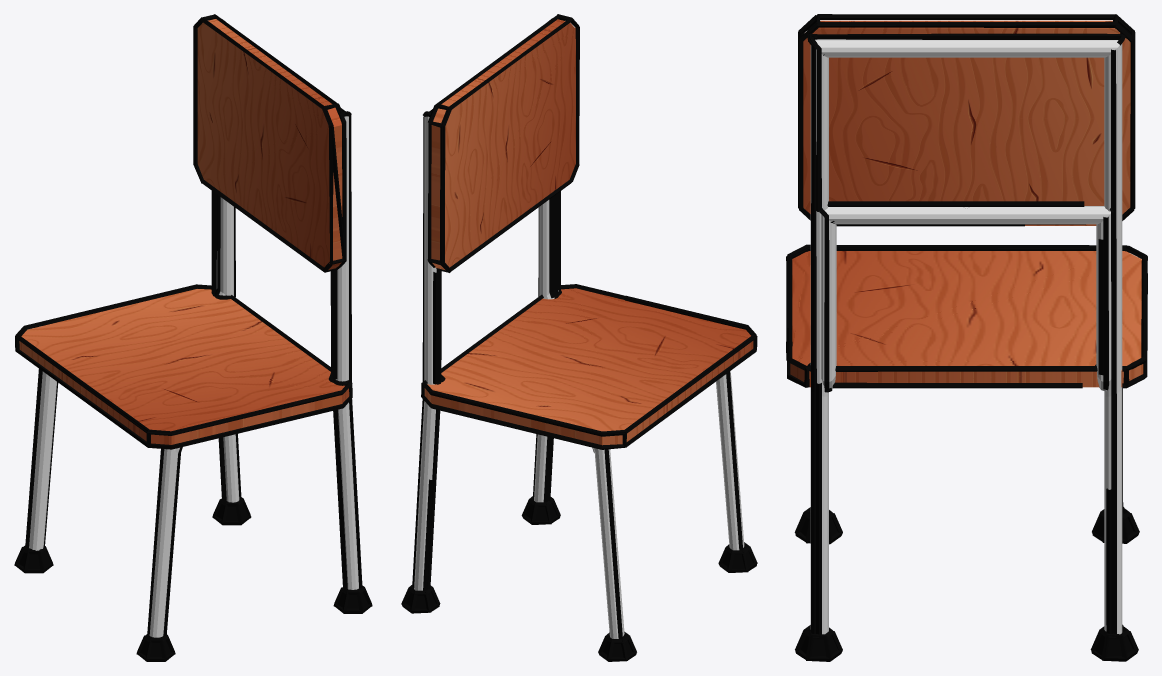
Rendered from Kursi2.fbx.
3 views of the same model, side by side, from view 1: azimuth 30°, elevation 25°; view 2: azimuth 150°, elevation 25°; view 3: azimuth 270°, elevation 25° (orthographic). The views are drawn at different scales.
Visible parts, largest first — view 1: Plane.003, Plane.002, Lines_Lines, Cylinder, Cylinder.001, Cylinder.002; view 2: Plane.003, Plane.002, Lines_Lines, Cylinder, Cylinder.001, Cylinder.002; view 3: Plane.002, Plane.003, Lines_Lines, Cylinder.001, Cylinder, Cylinder.002.
Boxes of the visible parts, box(x1,y1,x2,y2) form: Plane.003: box(19, 289, 349, 444); Plane.002: box(197, 19, 342, 269); Lines_Lines: box(14, 14, 372, 661); Cylinder: box(29, 197, 233, 637); Cylinder.001: box(216, 116, 358, 589); Cylinder.002: box(19, 503, 367, 656); Plane.003: box(424, 288, 753, 445); Plane.002: box(431, 19, 575, 270); Lines_Lines: box(401, 14, 757, 661); Cylinder: box(539, 200, 744, 638); Cylinder.001: box(414, 116, 558, 590); Cylinder.002: box(406, 503, 753, 657); Plane.002: box(803, 20, 1130, 225); Plane.003: box(790, 251, 1143, 387); Lines_Lines: box(786, 14, 1147, 661); Cylinder.001: box(810, 39, 1122, 634); Cylinder: box(821, 206, 1111, 391); Cylinder.002: box(800, 512, 1133, 656).
Size of the model in its own units: 74.18 by 158 by 83.47.
4 materials, 1 textured.
